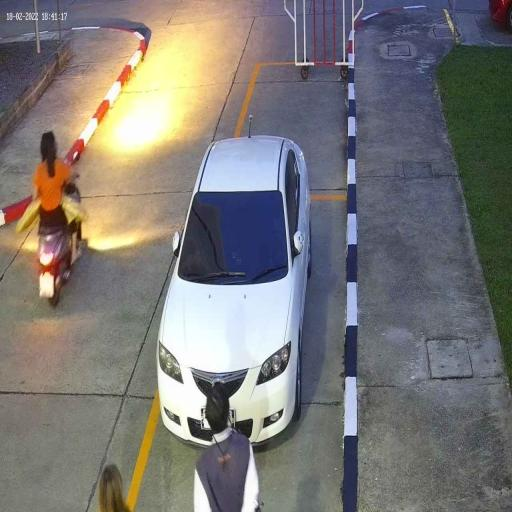car: (156, 132, 313, 448)
motorcycle: (36, 182, 84, 312)
